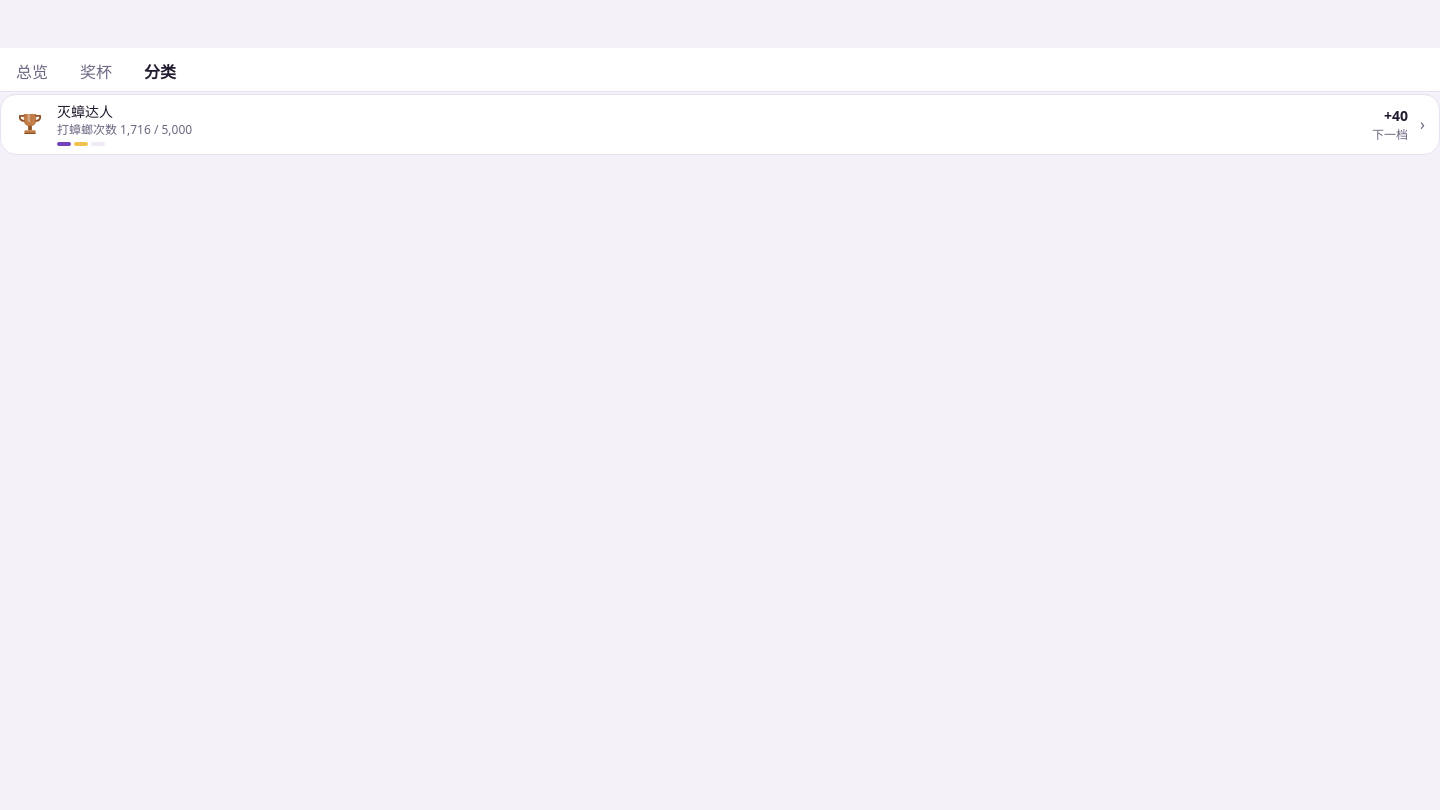
Test: AchievementsView › 分类页：一行一条线，写进度；点开面板列各档和稀有度
Click the button with test id "ach-line-roach" at (85, 111), box [1,94,1439,154]
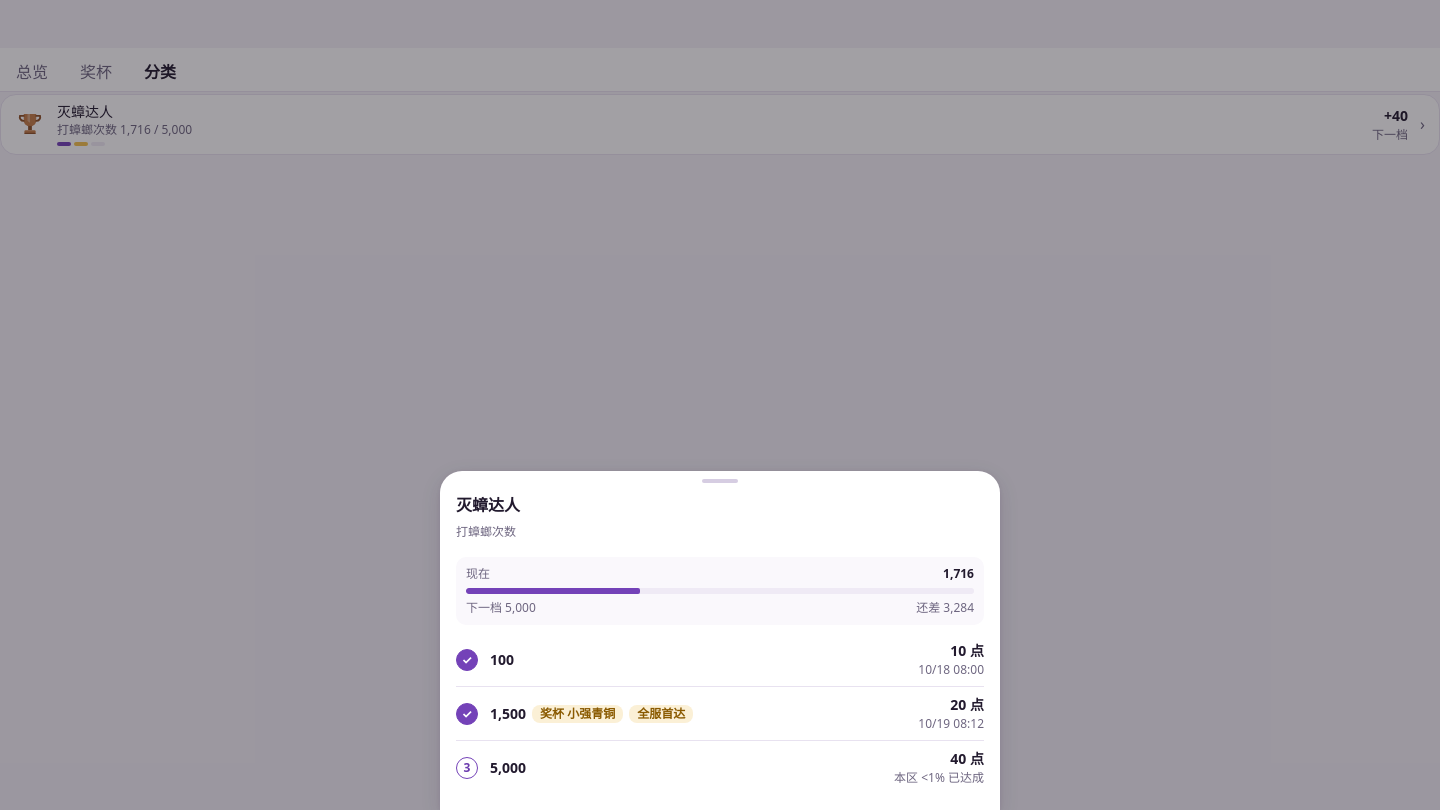
Now the list with test id "ach-tiers" shows "奖杯 小强青铜", box [540,704,615,722]
